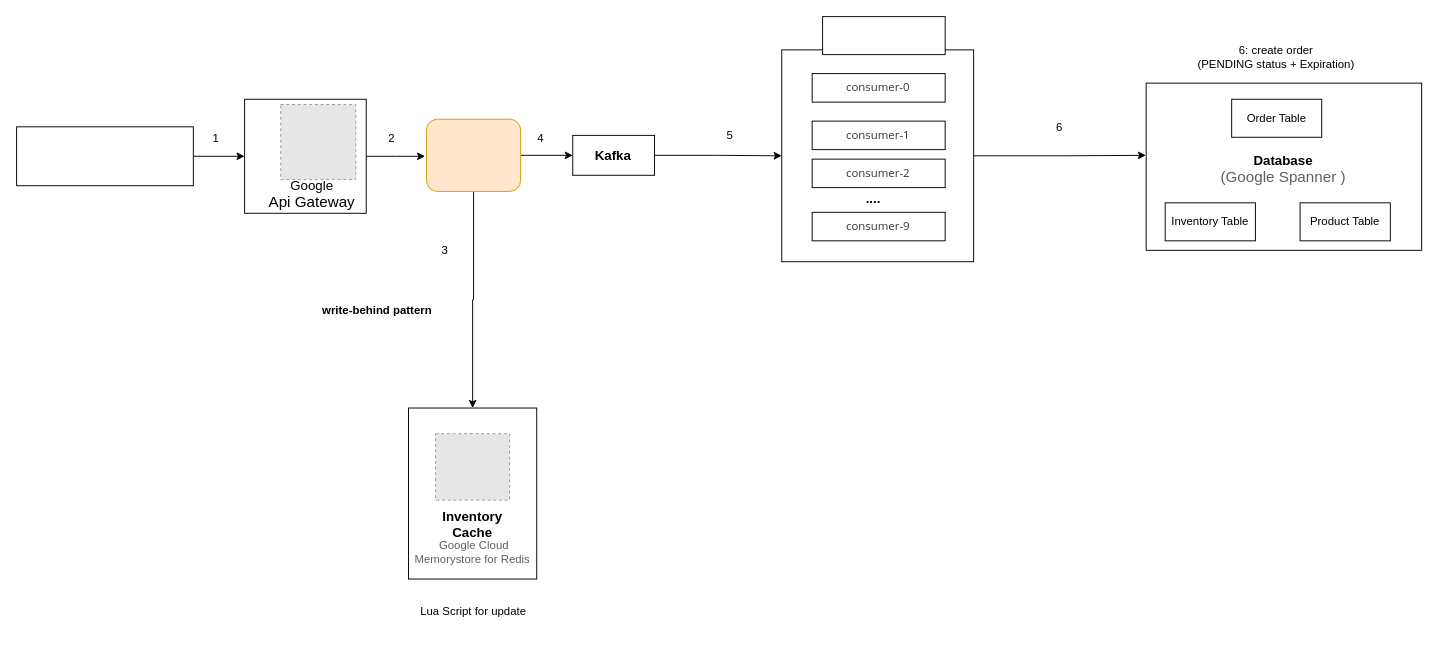
The diagram is 1438 pixels wide and 652 high, and some of its shapes have lost their labels. Grey dashed boxes stand in for pictures. Each missing label, with the centre of its shape:
client click "place order": (104,156)
Inventory Service: (473,154)
Order Service: (883,35)
